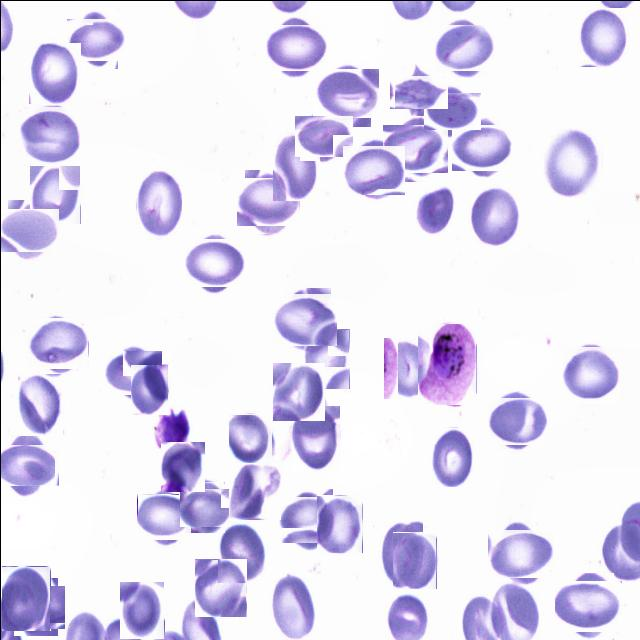red blood cell: (543, 125, 602, 198), (558, 576, 618, 636), (18, 104, 78, 164), (466, 185, 522, 247), (272, 128, 320, 200), (316, 64, 374, 122), (560, 344, 618, 402), (274, 290, 332, 348), (386, 120, 444, 177), (491, 524, 548, 582), (29, 314, 86, 371), (240, 173, 296, 230), (1, 565, 50, 630), (28, 42, 80, 103), (291, 405, 339, 471), (345, 141, 401, 197), (136, 169, 182, 237), (268, 572, 314, 639), (576, 7, 628, 66), (383, 336, 432, 398), (194, 558, 246, 616), (272, 362, 324, 420), (29, 164, 80, 223), (378, 520, 422, 588), (436, 20, 491, 74), (489, 393, 543, 448), (228, 462, 280, 519), (268, 20, 322, 74), (282, 492, 336, 546), (455, 120, 509, 174), (188, 236, 242, 290), (0, 437, 53, 491), (217, 524, 266, 582), (17, 373, 62, 435), (303, 328, 349, 388), (2, 203, 54, 256), (316, 494, 362, 552), (119, 580, 164, 638), (70, 13, 121, 64), (10, 581, 60, 632), (108, 347, 158, 398), (392, 531, 436, 588), (138, 492, 188, 542), (298, 110, 348, 160), (431, 427, 473, 486), (228, 411, 272, 464), (427, 86, 475, 134), (160, 441, 204, 491), (395, 68, 441, 114), (414, 184, 455, 234), (182, 484, 227, 529), (130, 363, 168, 414)
trophozoite: (417, 322, 476, 404)
